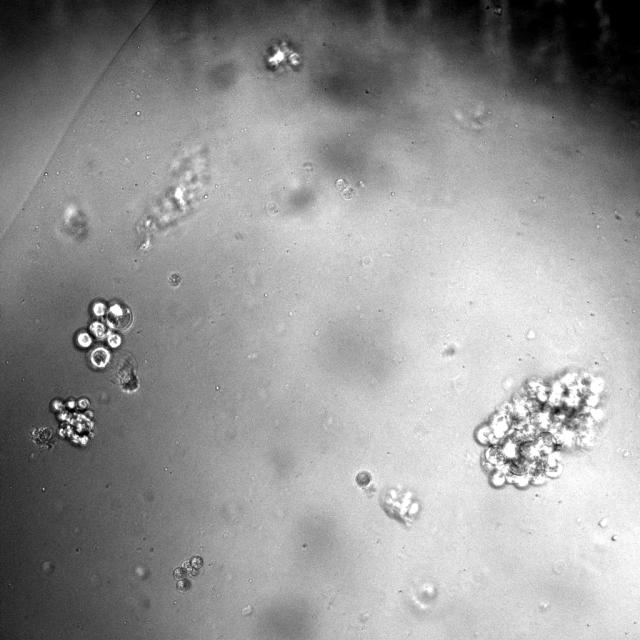organoid: (476, 371, 604, 487), (136, 145, 210, 251), (74, 298, 139, 393), (51, 397, 94, 445), (379, 486, 420, 527), (173, 555, 203, 592), (265, 40, 299, 71), (29, 426, 56, 450), (335, 178, 354, 200), (355, 470, 371, 487), (168, 272, 181, 287)
